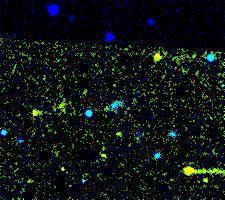star: (144, 42, 174, 72)
